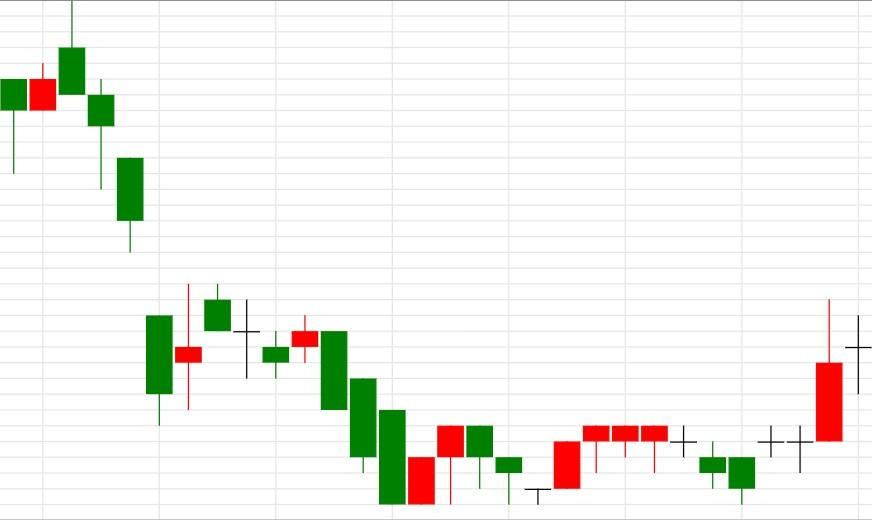three_black_crows_fall: (0, 0, 145, 251)
